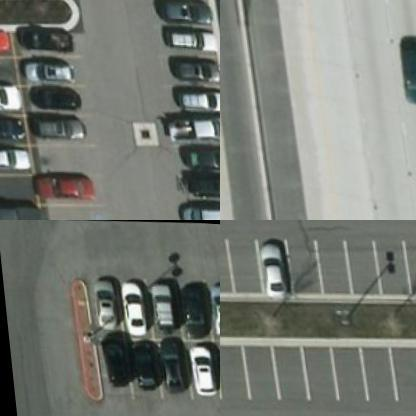car: (250, 238, 290, 296), (90, 266, 124, 327), (162, 104, 219, 140), (119, 269, 152, 331), (98, 329, 131, 391), (178, 269, 211, 330), (146, 268, 178, 330), (28, 168, 90, 199), (130, 330, 161, 392), (189, 333, 219, 396), (159, 19, 219, 50), (161, 48, 219, 80), (156, 335, 186, 396), (28, 104, 84, 136), (391, 28, 415, 102), (25, 78, 80, 110), (22, 22, 78, 52), (20, 53, 77, 82), (169, 77, 219, 109), (176, 133, 219, 168), (179, 160, 219, 195), (154, 0, 216, 21), (174, 193, 219, 219), (0, 138, 25, 172), (0, 194, 33, 219), (0, 106, 23, 139), (207, 268, 219, 331), (0, 78, 20, 110)
